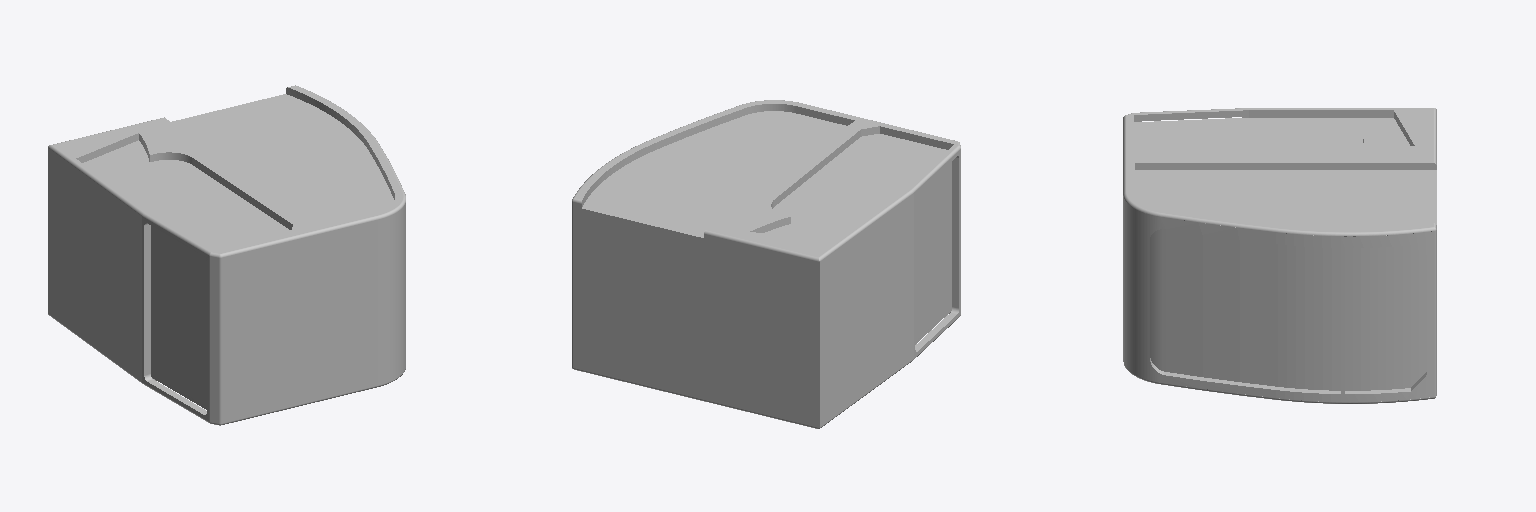
The model's file is meshbody10_rviz.obj.
3 renders of one model, left to right at view 1: azimuth 30°, elevation 25°; view 2: azimuth 150°, elevation 25°; view 3: azimuth 270°, elevation 25°, orthographic.
Parts seen in each view (by area): view 1: meshbody10_rviz\Facets; view 2: meshbody10_rviz\Facets; view 3: meshbody10_rviz\Facets.
Boxes of the visible parts, box(x1,y1,x2,y2) form: meshbody10_rviz\Facets: box(48, 85, 405, 425); meshbody10_rviz\Facets: box(572, 100, 960, 428); meshbody10_rviz\Facets: box(1123, 108, 1436, 403).
Bounding box in the file's own units: 1.58 × 0.9975 × 1.65.